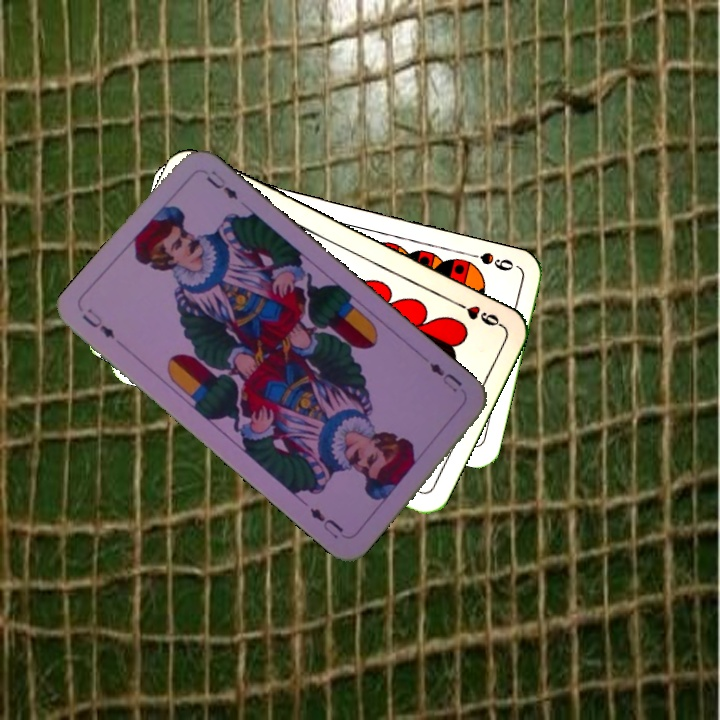EU: (78, 304, 118, 342), (425, 358, 465, 395)
H9: (449, 297, 504, 330)
S9: (459, 247, 516, 274)
